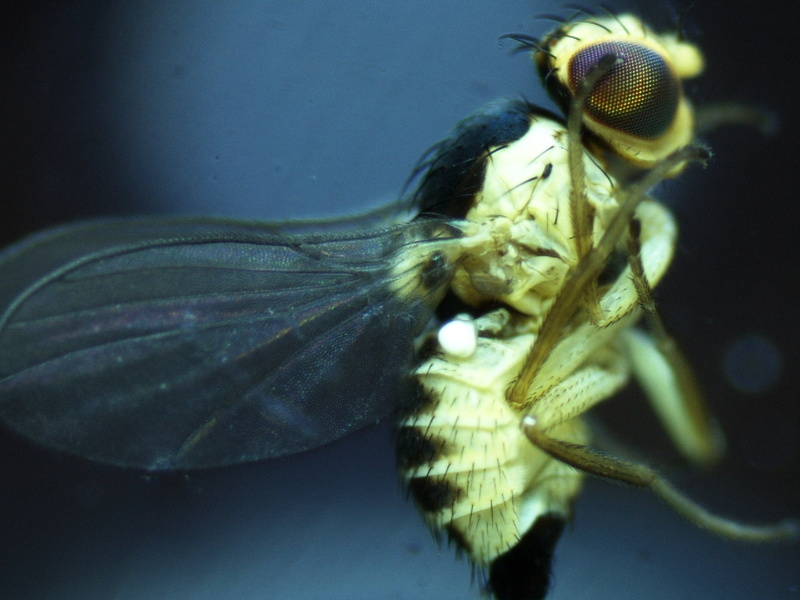Trifoli: (114, 18, 724, 584)
